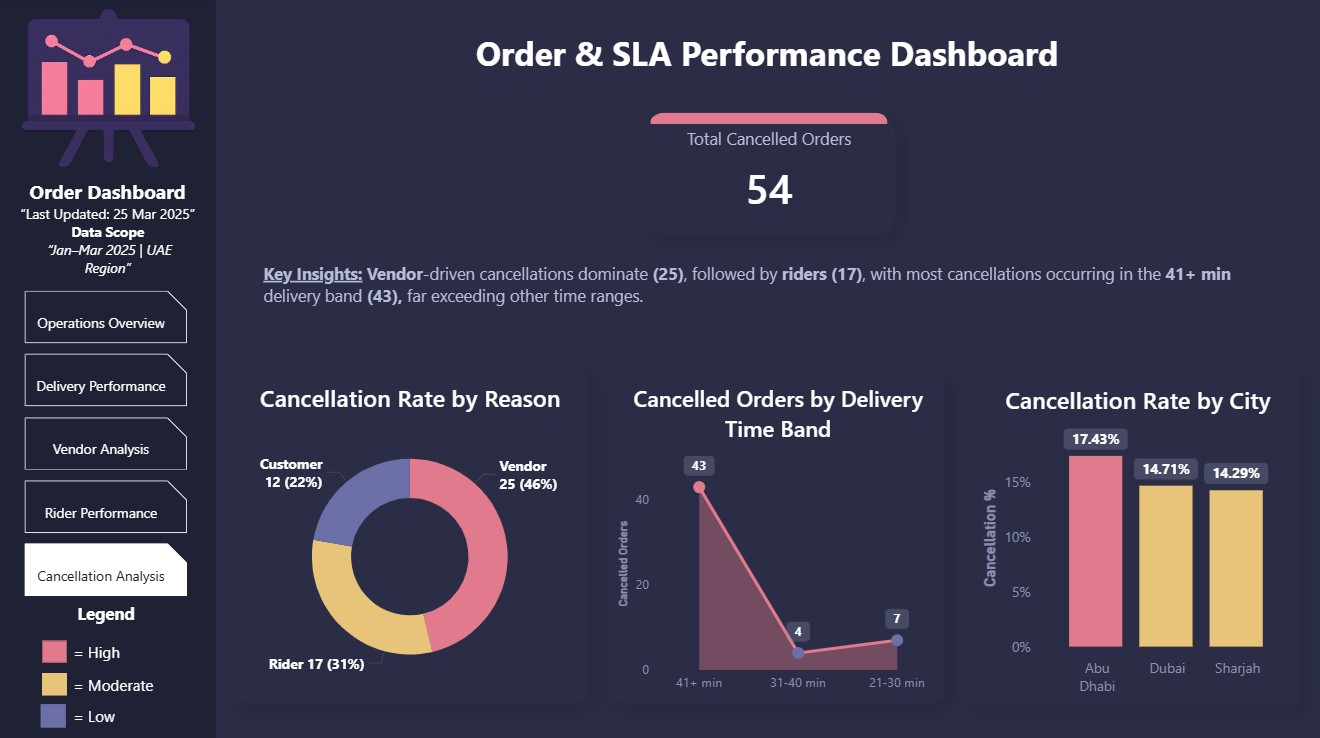

This screenshot's page, from the dashboard's own definition file:
{"tool":"powerbi","page":{"name":"Cancellation Analysis","canvas":[1280,720],"ordinal":4},"visuals":[{"type":"shape","box":[1.2,0,209.9,720.2],"z":0,"group":"g1"},{"type":"donutChart","title":"Cancellation Rate by Reason","fields":{"Category":["Orders.CancelReason"],"Y":["Orders.Cancelled Orders"]},"box":[220.8,358.5,349.8,321.3],"z":0},{"type":"shape","box":[44.3,620.4,24.2,21.6],"z":0,"group":"g2"},{"type":"image","box":[17.2,6.2,179.9,162.6],"z":1000,"group":"g3"},{"type":"columnChart","title":"Cancellation Rate by City","fields":{"Category":["Orders.City"],"Y":["Orders.Cancellation %"]},"box":[939.1,361,318.8,321.3],"z":1000},{"type":"textbox","box":[69.7,616.1,62.9,31.3],"z":1000,"group":"g2"},{"type":"pageNavigator","box":[27.1,282.2,157.7,295.7],"z":2000,"group":"g3"},{"type":"areaChart","title":"Cancelled Orders by Delivery Time Band","fields":{"Category":["Orders.Delivery Time Band"],"Y":["Orders.Cancelled Orders"]},"box":[588,361,326.3,318.8],"z":2000},{"type":"shape","box":[44.3,651.7,24.2,21.6],"z":2000,"group":"g2"},{"type":"cardVisual","title":"Total Cancell","fields":{"Data":["Orders.Cancelled Orders"]},"box":[625.2,109.6,241.6,119.6],"z":3000},{"type":"textbox","box":[17.2,168.8,179.9,113.4],"z":3000,"group":"g3"},{"type":"textbox","box":[62.8,577.9,87.5,38.2],"z":3000,"group":"g2"},{"type":"group","id":"g1","title":"Group 3","box":[1.2,0,209.5,720.8],"z":4000},{"type":"group","id":"g2","title":"Group 2","box":[43.1,577.9,126.9,131.8],"z":4000,"group":"g3"},{"type":"textbox","box":[69.7,647.4,100.3,31.3],"z":4000,"group":"g2"},{"type":"group","id":"g3","title":"Group 1","box":[17.2,6.2,179.9,703.6],"z":4001,"group":"g1"},{"type":"textbox","box":[252.1,261.8,959.1,62.7],"z":5000},{"type":"shape","box":[43.1,681.8,24.2,22.6],"z":5000,"group":"g2"},{"type":"textbox","box":[457.1,27.1,576.7,60.4],"z":6000},{"type":"textbox","box":[69.7,678.6,62.9,31.3],"z":6000,"group":"g2"}]}

Visuals, with their boxes in screenshot pixels (x1, y1, x2, y2), scaled from the page's 1280x720 canvas onto the 1320x738 screenshot:
shape: left=1, top=0, right=218, bottom=737
"Cancellation Rate by Reason" donutChart: left=228, top=367, right=588, bottom=697
shape: left=46, top=636, right=71, bottom=658
image: left=18, top=6, right=203, bottom=173
"Cancellation Rate by City" columnChart: left=968, top=370, right=1297, bottom=699
textbox: left=72, top=632, right=137, bottom=664
pageNavigator: left=28, top=289, right=191, bottom=592
"Cancelled Orders by Delivery Time Band" areaChart: left=606, top=370, right=943, bottom=697
shape: left=46, top=668, right=71, bottom=690
"Total Cancell" cardVisual: left=645, top=112, right=894, bottom=235
textbox: left=18, top=173, right=203, bottom=289
textbox: left=65, top=592, right=155, bottom=632
"Group 3" group: left=1, top=0, right=217, bottom=737
"Group 2" group: left=44, top=592, right=175, bottom=727
textbox: left=72, top=664, right=175, bottom=696
"Group 1" group: left=18, top=6, right=203, bottom=728
textbox: left=260, top=268, right=1249, bottom=333
shape: left=44, top=699, right=69, bottom=722
textbox: left=471, top=28, right=1066, bottom=90
textbox: left=72, top=696, right=137, bottom=728
